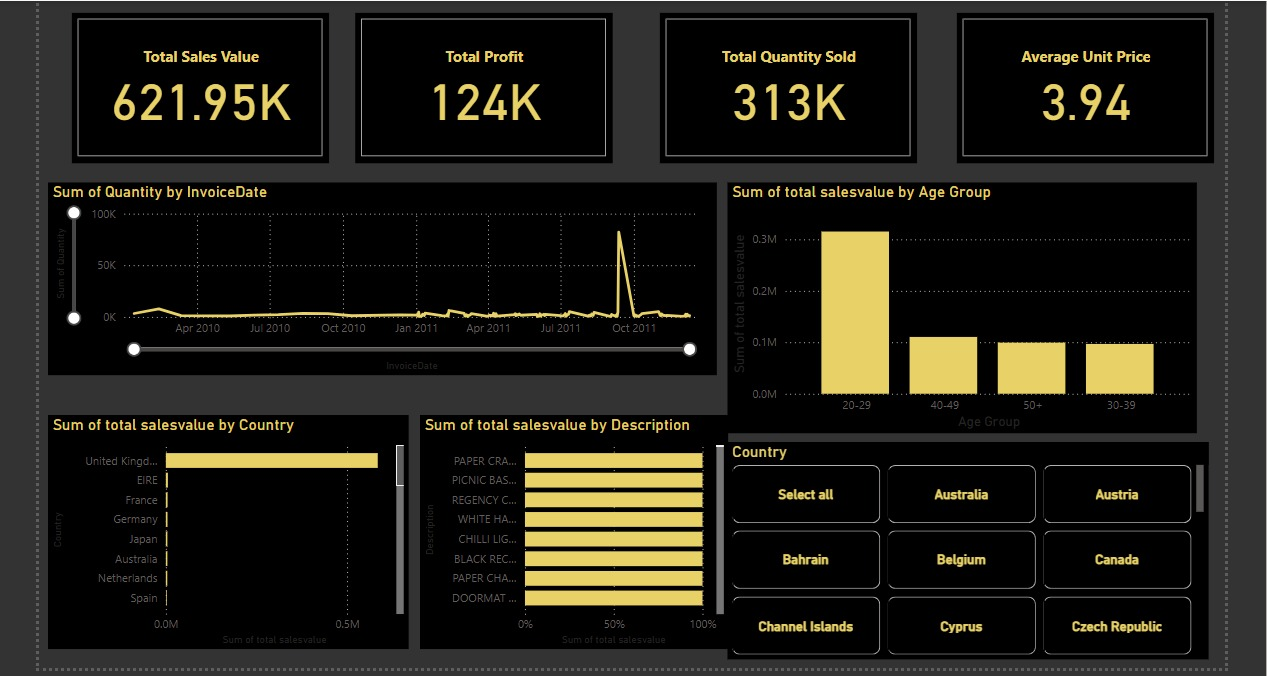

What the dashboard file says about the page in this screenshot:
{"tool":"powerbi","page":{"name":"Page 2","canvas":[1280,720],"ordinal":1},"visuals":[{"type":"cardVisual","fields":{"Data":["data.Total Sales Value"]},"box":[36.4,12.7,277.3,161.8],"z":0},{"type":"cardVisual","fields":{"Data":["data.Total Profit"]},"box":[341.8,12.7,277.3,161.8],"z":1000},{"type":"cardVisual","fields":{"Data":["data.Total Quantity Sold"]},"box":[670,12.7,277.3,161.8],"z":2000},{"type":"cardVisual","fields":{"Data":["data.Average Unit Price"]},"box":[990.9,12.7,277.3,161.8],"z":3000},{"type":"lineChart","fields":{"Category":["data.InvoiceDate"],"Y":["Sum(data.Quantity)"]},"box":[9.1,196.4,721.8,208.2],"z":4000},{"type":"clusteredBarChart","fields":{"Category":["data.Country"],"Y":["Sum(data.total salesvalue)"]},"box":[9.1,447.3,389.1,252.7],"z":5000},{"type":"hundredPercentStackedBarChart","fields":{"Category":["data.Description"],"Y":["Sum(data.total salesvalue)"]},"box":[410.9,447.3,332.7,252.7],"z":6000},{"type":"columnChart","fields":{"Category":["data.Age Group"],"Y":["Sum(data.total salesvalue)"]},"box":[743.6,196.4,506.4,270.9],"z":7000},{"type":"advancedSlicerVisual","fields":{"Values":["data.Country"]},"box":[743.6,476.4,519.1,234.5],"z":8000}]}

Visuals, with their boxes on the page's 1280x720 design canvas (x1, y1, x2, y2). These are canvas units, not pixel positions in the 1267x676 screenshot, which may show the page scaled, cropped or inside an application window:
cardVisual - data.Total Sales Value: x1=36 y1=13 x2=314 y2=174
cardVisual - data.Total Profit: x1=342 y1=13 x2=619 y2=174
cardVisual - data.Total Quantity Sold: x1=670 y1=13 x2=947 y2=174
cardVisual - data.Average Unit Price: x1=991 y1=13 x2=1268 y2=174
lineChart - data.InvoiceDate x Sum(data.Quantity): x1=9 y1=196 x2=731 y2=405
clusteredBarChart - data.Country x Sum(data.total salesvalue): x1=9 y1=447 x2=398 y2=700
hundredPercentStackedBarChart - data.Description x Sum(data.total salesvalue): x1=411 y1=447 x2=744 y2=700
columnChart - data.Age Group x Sum(data.total salesvalue): x1=744 y1=196 x2=1250 y2=467
advancedSlicerVisual - data.Country: x1=744 y1=476 x2=1263 y2=711
